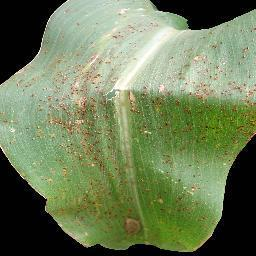Corn_Common_Rust: (34, 151, 240, 236), (141, 18, 256, 152), (52, 46, 142, 152), (3, 60, 51, 149), (66, 6, 141, 45)
